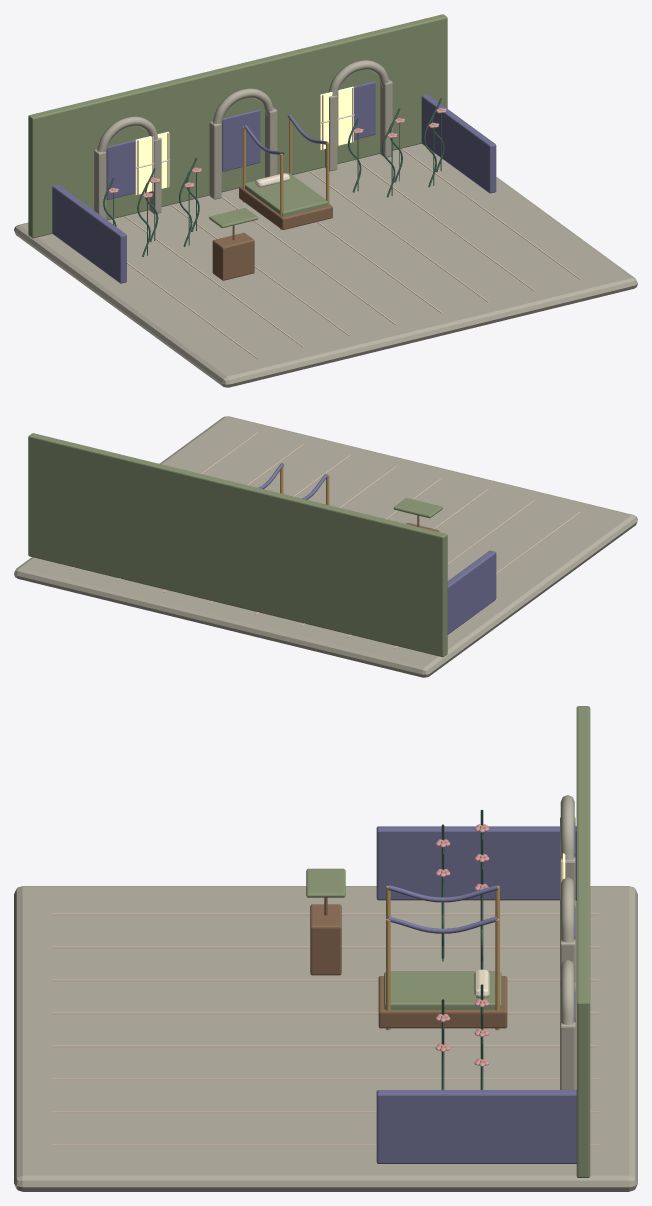
Rendered from sleep_hall-DE1TgC-a.glb.
3 renders of one model, top to bottom at view 1: azimuth 30°, elevation 25°; view 2: azimuth 150°, elevation 25°; view 3: azimuth 270°, elevation 25°, orthographic. The views are drawn at different scales.
Visible parts, largest first — view 1: world_stone.037, world_Story secondary.012, world_Story primary.012, world_wood.037, world_Story accent.012, world_Window pearl glow.002, world_leafdark.037, world_cream.037, world_brass.037, FX_covered_Story secondary.012; view 2: world_Story secondary.012, world_stone.037, world_Story primary.012, world_Story accent.012, FX_covered_Story secondary.012; view 3: world_stone.037, world_Story primary.012, world_Story secondary.012, world_Story accent.012, world_wood.037, world_leafdark.037, world_brass.037, FX_covered_Story secondary.012, world_flower.037.
Part boxes in pixels (left/top/right/bottom): world_stone.037: left=14, top=60, right=637, bottom=387; world_Story secondary.012: left=28, top=14, right=447, bottom=238; world_Story primary.012: left=52, top=81, right=496, bottom=283; world_wood.037: left=212, top=186, right=332, bottom=280; world_Story accent.012: left=124, top=148, right=581, bottom=358; world_Window pearl glow.002: left=135, top=86, right=353, bottom=194; world_leafdark.037: left=103, top=98, right=444, bottom=256; world_cream.037: left=136, top=87, right=354, bottom=195; world_brass.037: left=112, top=109, right=442, bottom=229; FX_covered_Story secondary.012: left=209, top=208, right=258, bottom=228; world_Story secondary.012: left=28, top=433, right=447, bottom=657; world_stone.037: left=14, top=416, right=637, bottom=677; world_Story primary.012: left=258, top=463, right=496, bottom=634; world_Story accent.012: left=70, top=432, right=581, bottom=648; FX_covered_Story secondary.012: left=393, top=498, right=442, bottom=518; world_stone.037: left=14, top=795, right=637, bottom=1191; world_Story primary.012: left=376, top=826, right=576, bottom=1163; world_Story secondary.012: left=384, top=706, right=590, bottom=1177; world_Story accent.012: left=53, top=913, right=598, bottom=1145; world_wood.037: left=310, top=897, right=507, bottom=1028; world_leafdark.037: left=441, top=810, right=483, bottom=1089; world_brass.037: left=386, top=826, right=499, bottom=1061; FX_covered_Story secondary.012: left=306, top=868, right=345, bottom=897; world_flower.037: left=435, top=824, right=489, bottom=1066.
Size of the model in its own units: 18 by 5.46 by 16.
